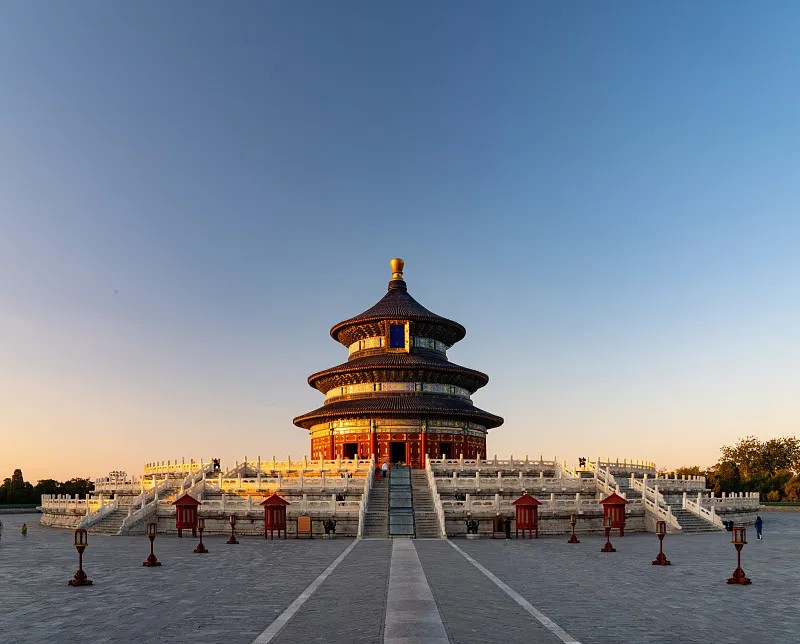Heaven: (291, 258, 508, 467)
